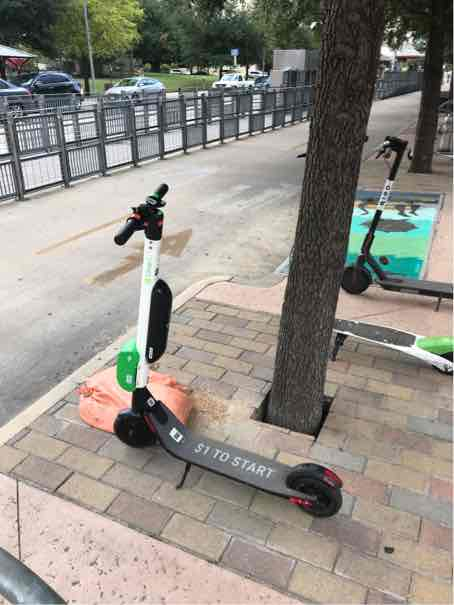scooter: (111, 183, 344, 514), (294, 142, 454, 366)
